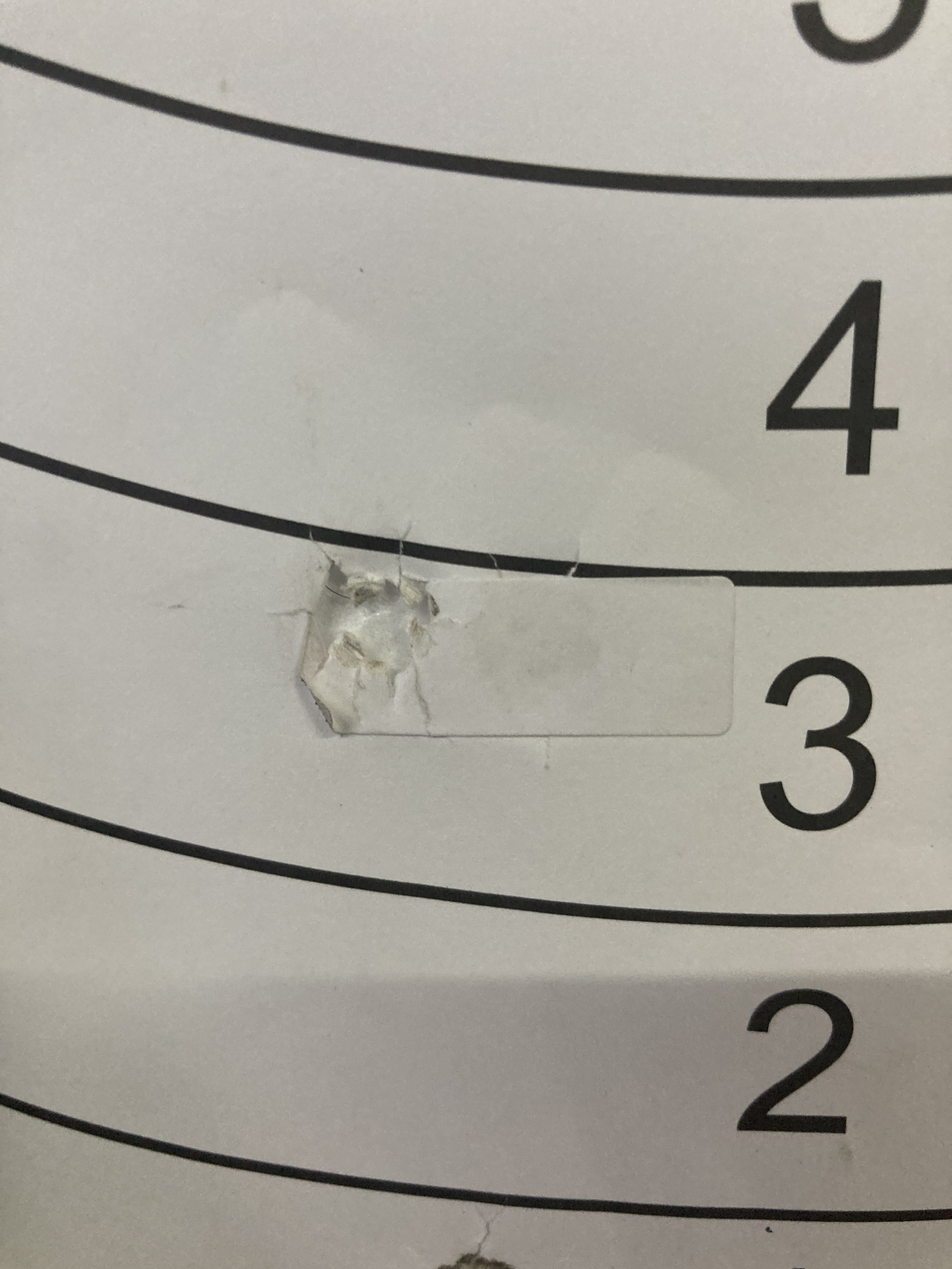hole: (252, 510, 460, 803)
